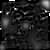node: (31, 37, 48, 50), (2, 16, 11, 29), (39, 1, 50, 11), (20, 21, 30, 30), (1, 43, 5, 50)
